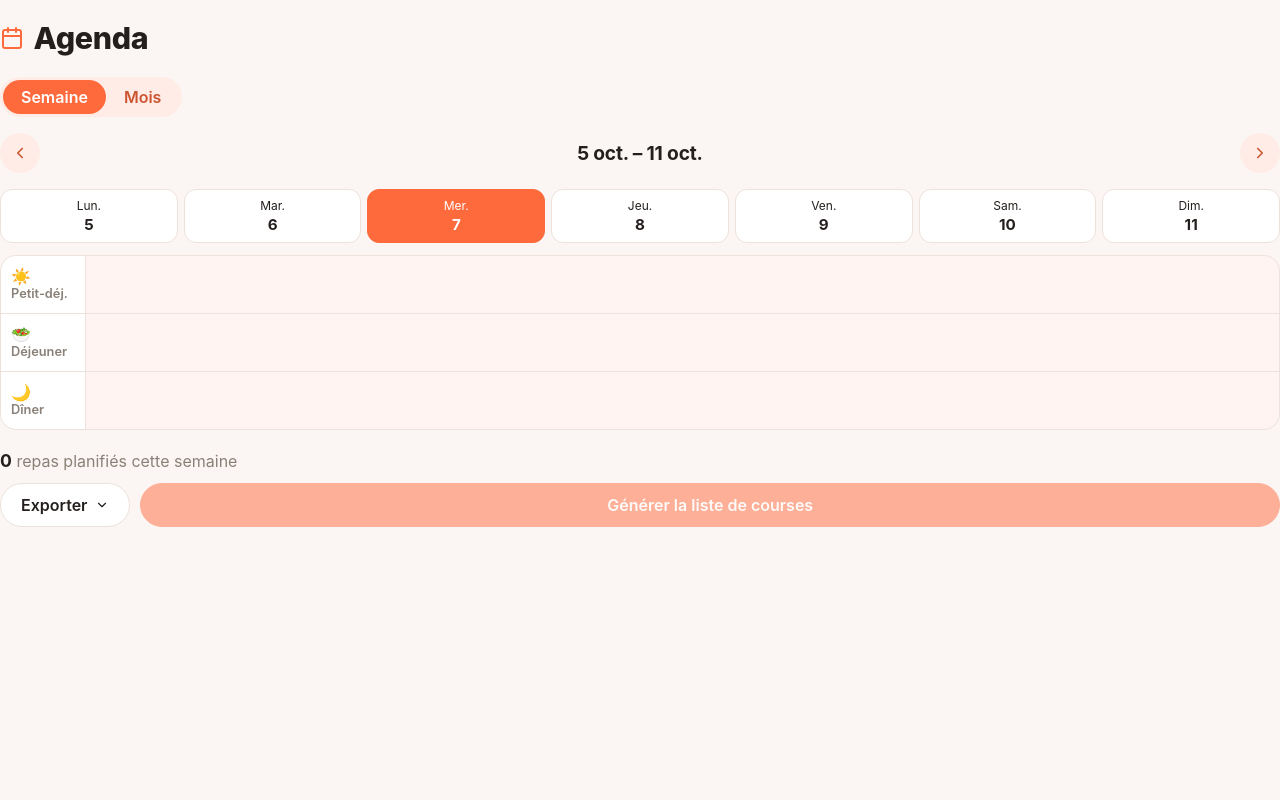
PlanningView calendar views › highlights today in both the week and month grids
Expected: the number of buttons with class "today" is 1, 367,189 -> 545,243
Expected: the 1st element with class "is-today" is shown, 86,256 -> 1279,313
Click the button "Mois": click(143, 97) 106,80 -> 179,114
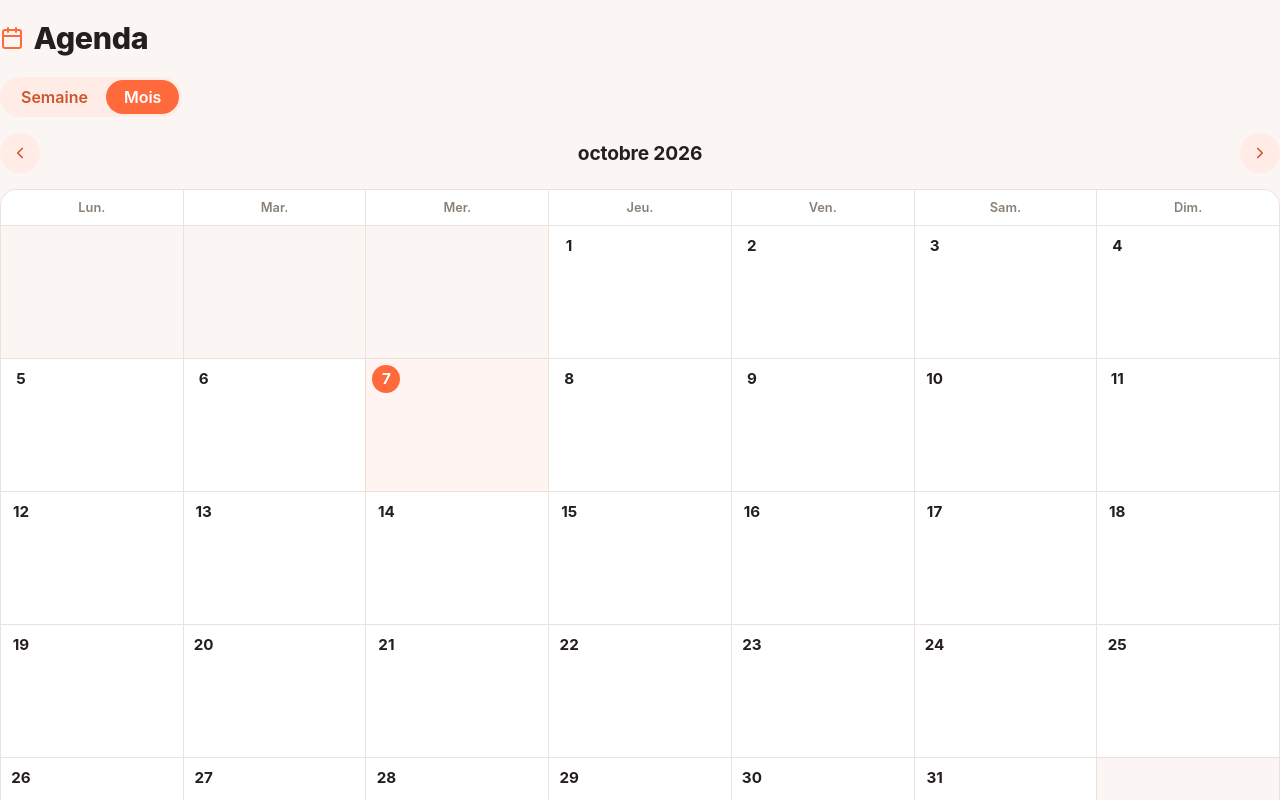
Now the number of elements with class "is-today" is 1, box 366,359 -> 548,491
